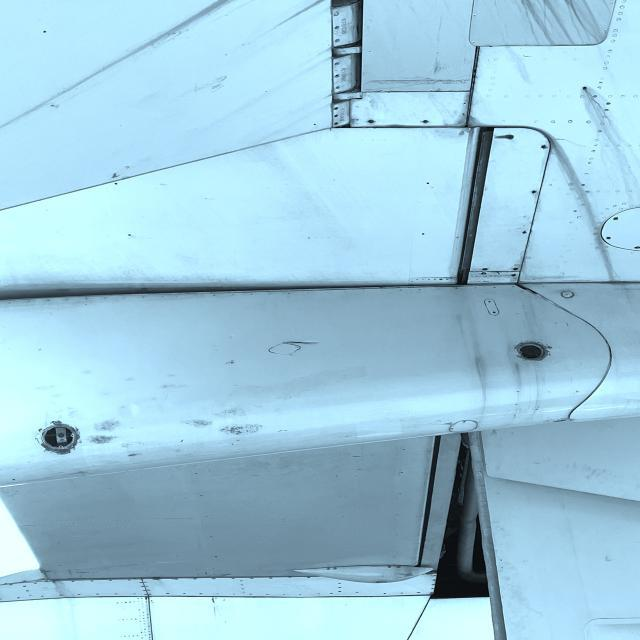crack: (284, 339, 330, 350)
